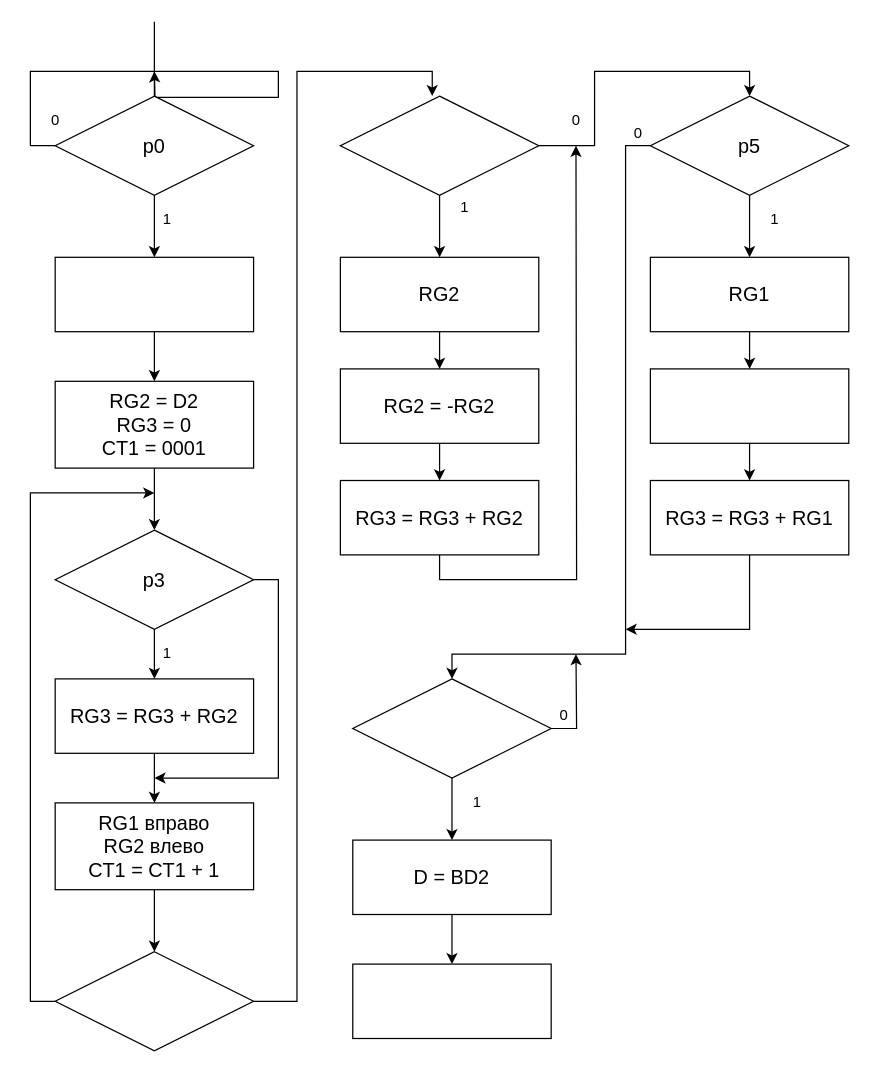
The diagram is 870 pixels wide and 1073 high, and some of its shapes have lost their labels. The shapes that lost their labels are listed below. From the top down, each one's box as (x1, y1, x2, y2) in pixels, then its label:
(339, 95, 539, 195): p4
(54, 256, 254, 332): RG1 = D1
(649, 368, 849, 443): RG1 = -RG1
(352, 678, 551, 778): p1
(54, 950, 254, 1051): p2
(352, 963, 551, 1038): D = BD1
